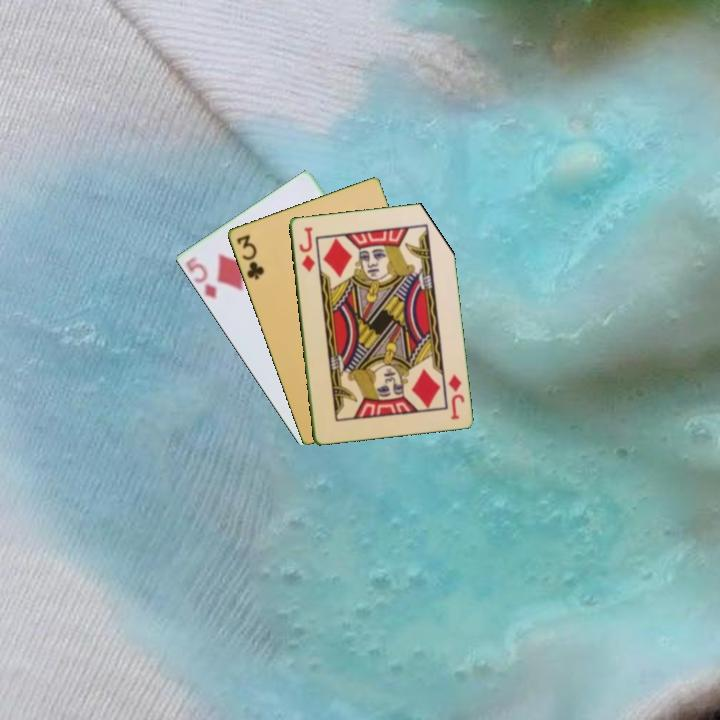3c: (233, 231, 267, 282)
5d: (182, 256, 220, 302)
Jd: (444, 370, 467, 422), (295, 223, 318, 274)
